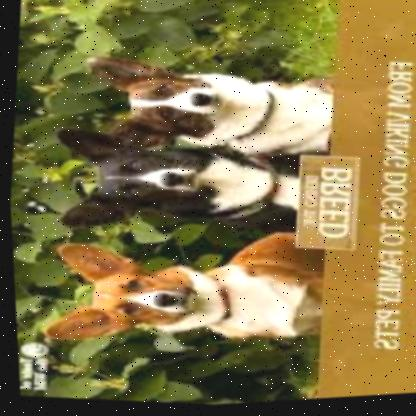dog: (37, 203, 332, 369), (79, 39, 339, 174), (46, 110, 307, 241)
